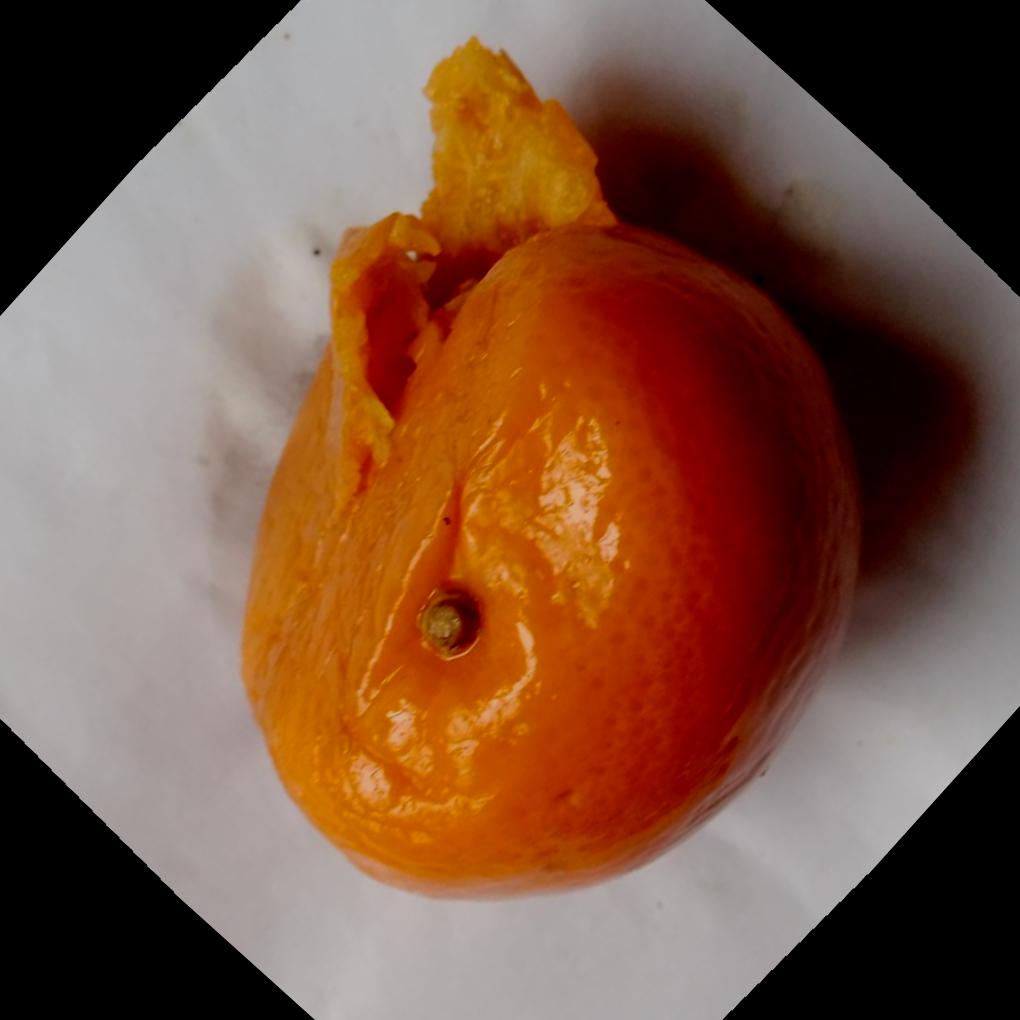FreshOrange: (241, 35, 868, 901)
